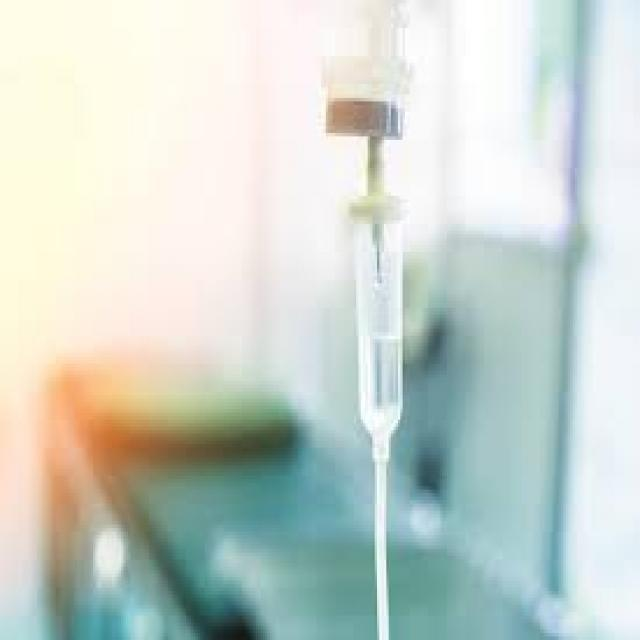iv_fluids: (319, 60, 439, 534)
